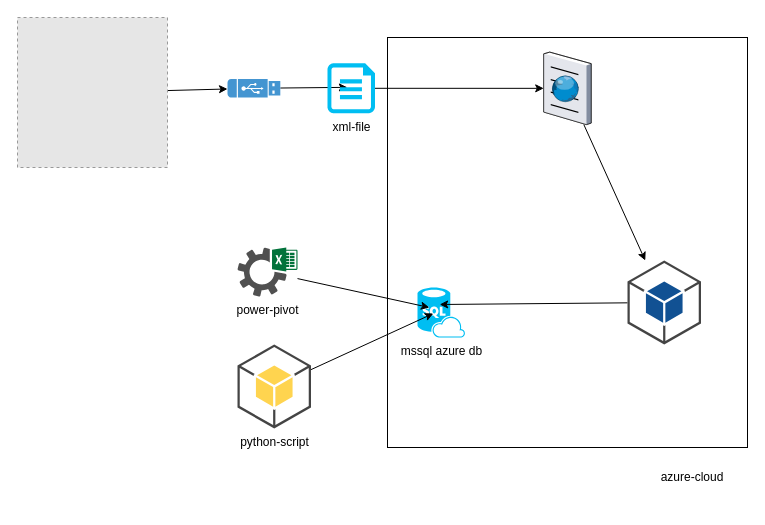
Some shapes in this 765 by 525 pixel diagram are drawn without their labels. Grey dashed boxes stand in for pictures. The shapes that lost their labels are listed below. From the top down, each one's centre as x and y in pixels, then its label:
At point (253, 88): "usb-stick".
At point (567, 88): "data-upload https://kettlerfileuploader.azurewebsites.net/Home/Dropzone".
At point (663, 302): "process data for sql ingestion .net-application".
